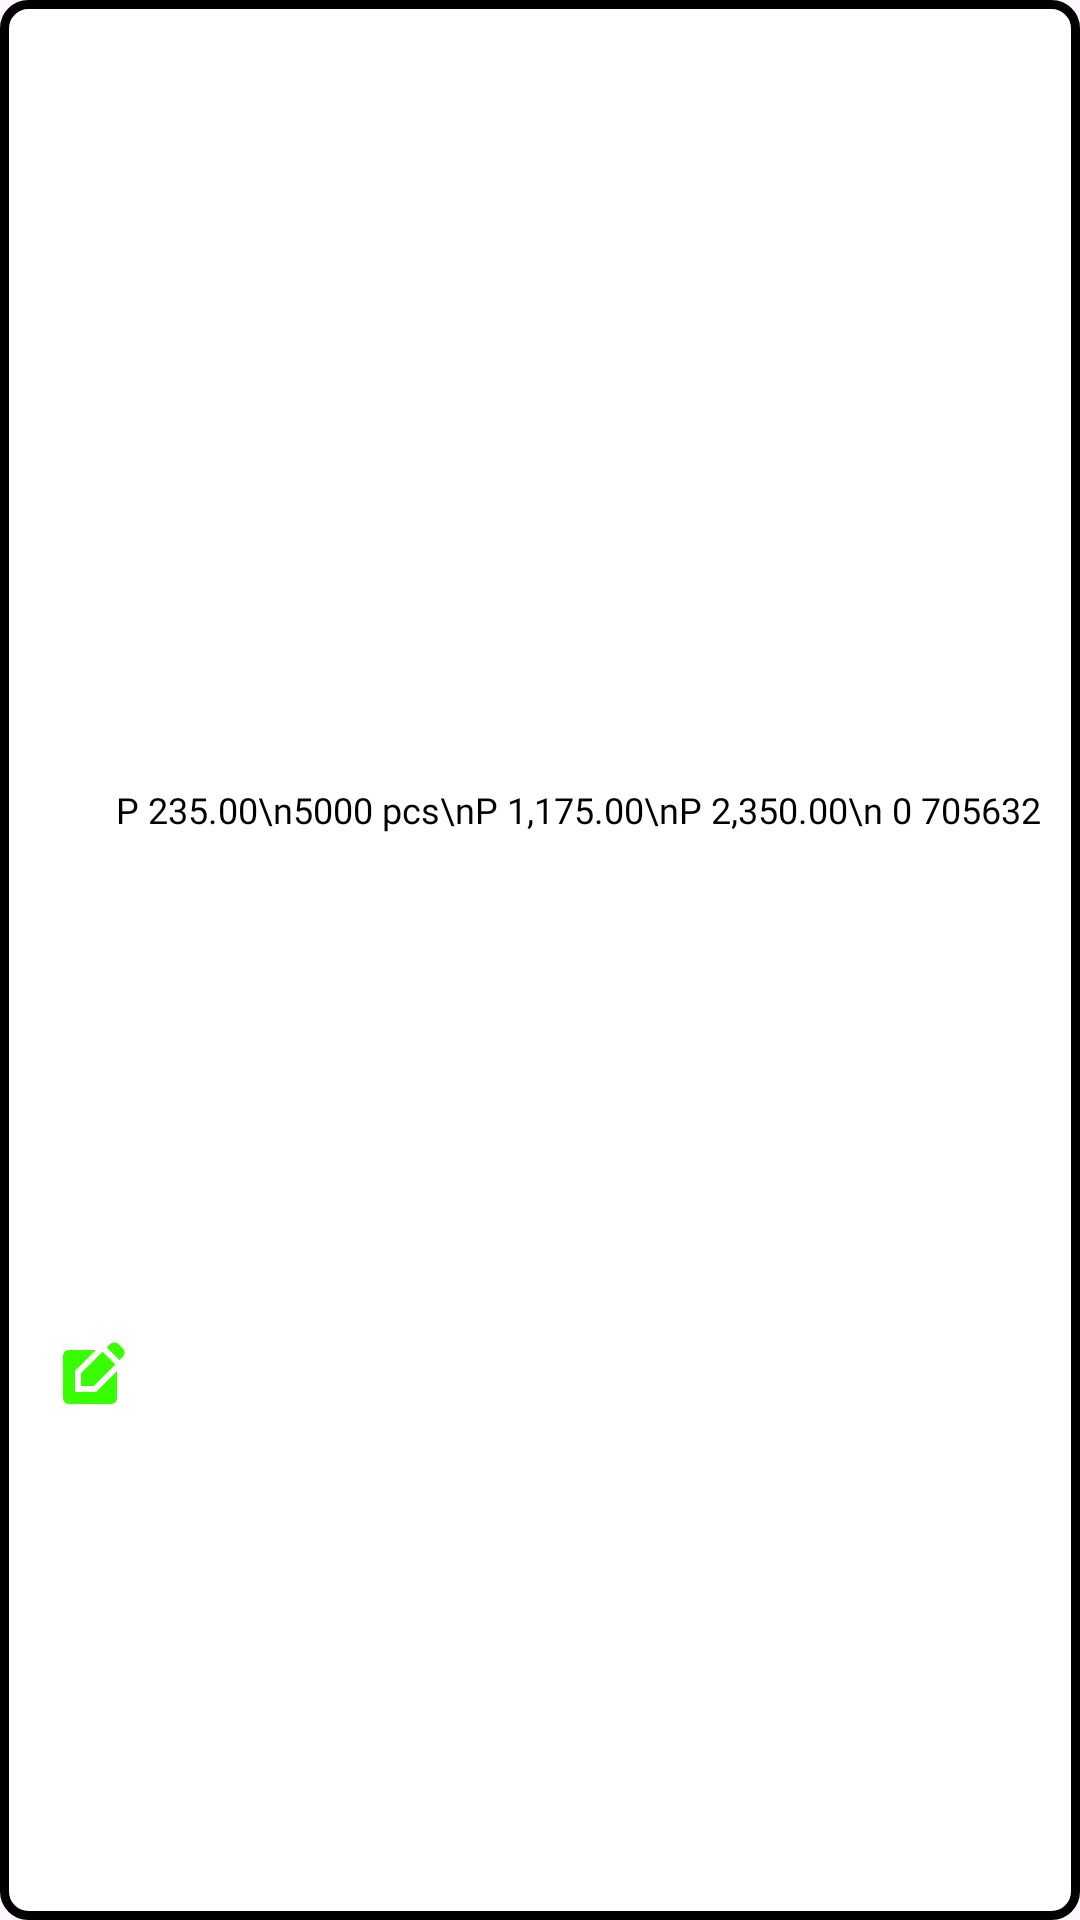

Icons on this 1080 x 1920 Android screen, each with its box as (x1, y1, x2, y2):
edit square: (63, 1342, 125, 1404)
